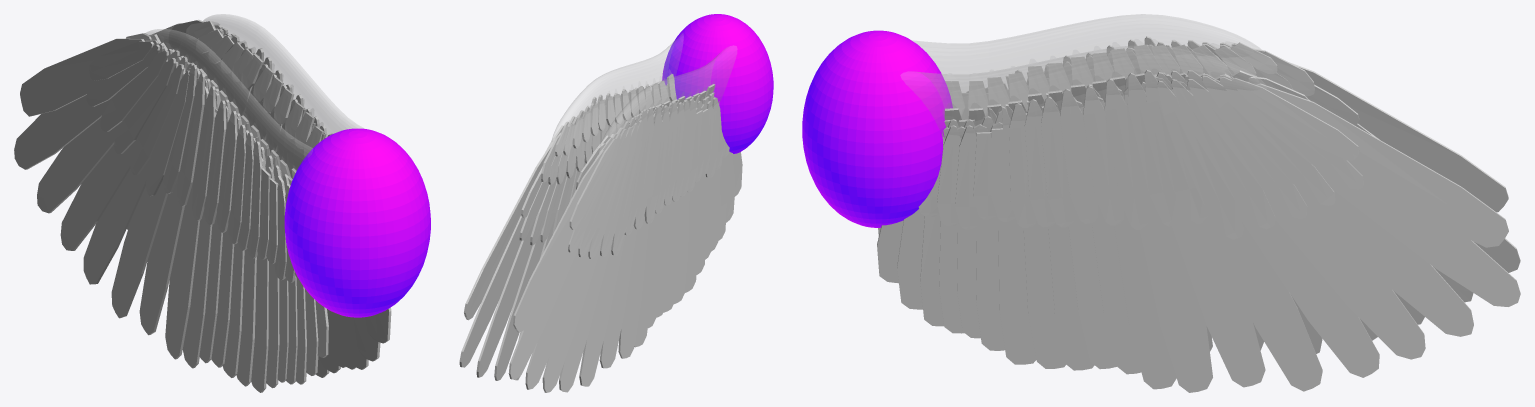
The model's file is espirito_santo-cor 3.glb.
The picture shows the model from 3 angles, left to right: view 1: azimuth 30°, elevation 25°; view 2: azimuth 150°, elevation 25°; view 3: azimuth 270°, elevation 25°; orthographic projection. The views are drawn at different scales.
Visible parts, largest first — view 1: Rt_Wing_2308.Shape.1-Mat.4 (×2), Sphere, Lt_Wing_2308.Shape.1-Mat.4 (×2), Rt_Wing_2308.Shape, Lt_Wing_2308.Shape; view 2: Rt_Wing_2308.Shape.1-Mat.4 (×2), Lt_Wing_2308.Shape.1-Mat.4 (×2), Sphere, Rt_Wing_2308.Shape, Lt_Wing_2308.Shape; view 3: Lt_Wing_2308.Shape.1-Mat.4 (×2), Sphere, Rt_Wing_2308.Shape.1-Mat.4 (×2), Lt_Wing_2308.Shape, Rt_Wing_2308.Shape.
Part boxes in pixels (x1=…): Rt_Wing_2308.Shape.1-Mat.4 (×2): x1=14, y1=33, x2=328, y2=392; Sphere: x1=284, y1=128, x2=430, y2=317; Lt_Wing_2308.Shape.1-Mat.4 (×2): x1=127, y1=19, x2=391, y2=377; Rt_Wing_2308.Shape: x1=140, y1=29, x2=312, y2=193; Lt_Wing_2308.Shape: x1=203, y1=14, x2=364, y2=140; Rt_Wing_2308.Shape.1-Mat.4 (×2): x1=508, y1=84, x2=742, y2=392; Lt_Wing_2308.Shape.1-Mat.4 (×2): x1=459, y1=74, x2=676, y2=380; Sphere: x1=662, y1=14, x2=773, y2=153; Rt_Wing_2308.Shape: x1=598, y1=46, x2=736, y2=154; Lt_Wing_2308.Shape: x1=552, y1=33, x2=683, y2=141; Lt_Wing_2308.Shape.1-Mat.4 (×2): x1=877, y1=70, x2=1520, y2=392; Sphere: x1=802, y1=30, x2=952, y2=227; Rt_Wing_2308.Shape.1-Mat.4 (×2): x1=878, y1=36, x2=1520, y2=353; Lt_Wing_2308.Shape: x1=901, y1=45, x2=1266, y2=137; Rt_Wing_2308.Shape: x1=912, y1=14, x2=1261, y2=93.
Size of the model in its own units: 34.1 by 85.64 by 161.
